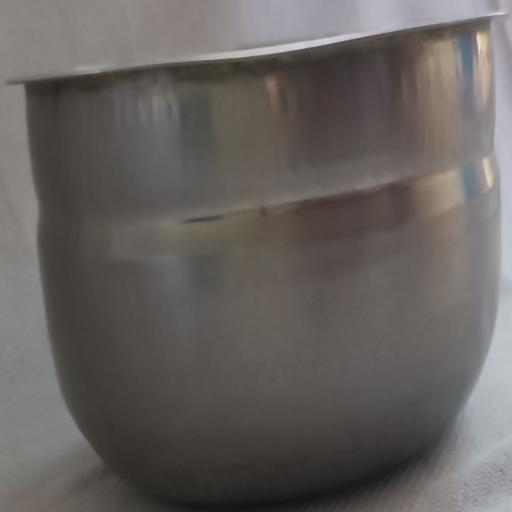vessel: (15, 10, 501, 503)
